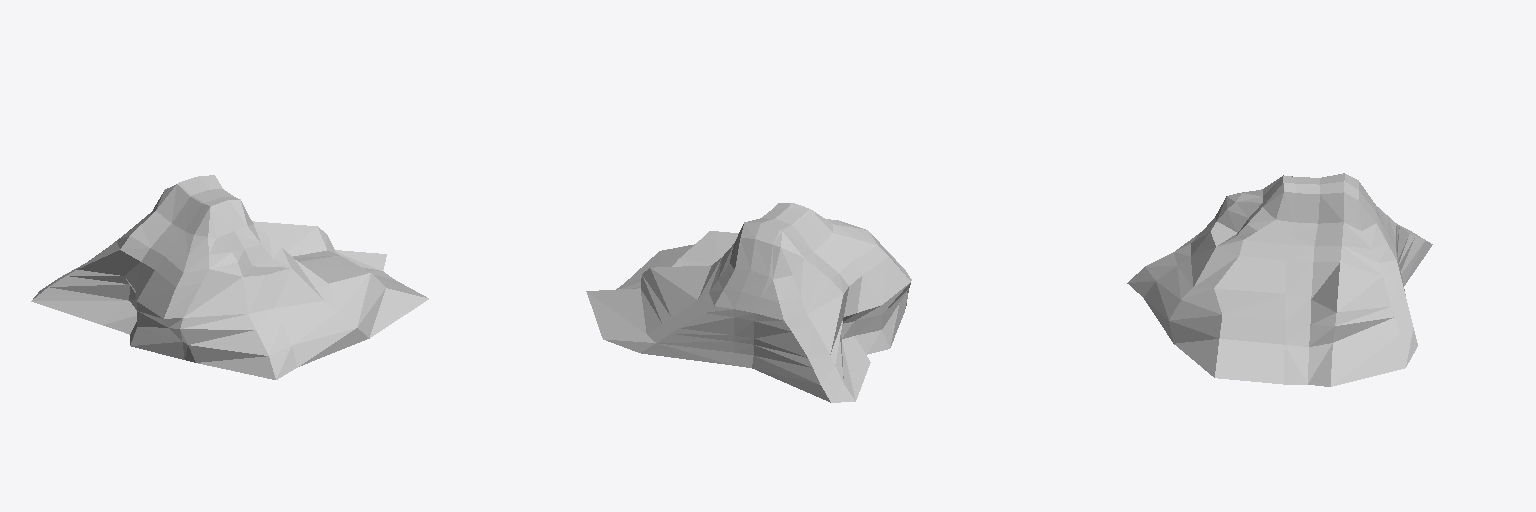
Rendered from Land.obj.
3 renders of one model, left to right at view 1: azimuth 30°, elevation 25°; view 2: azimuth 150°, elevation 25°; view 3: azimuth 270°, elevation 25°, orthographic.
Visible parts, largest first — view 1: Land House; view 2: Land House; view 3: Land House.
Boxes of the visible parts, x1=… form: Land House: x1=31, y1=175, x2=428, y2=379; Land House: x1=586, y1=203, x2=911, y2=402; Land House: x1=1127, y1=173, x2=1432, y2=386.
Size of the model in its own units: 139 by 53.13 by 118.